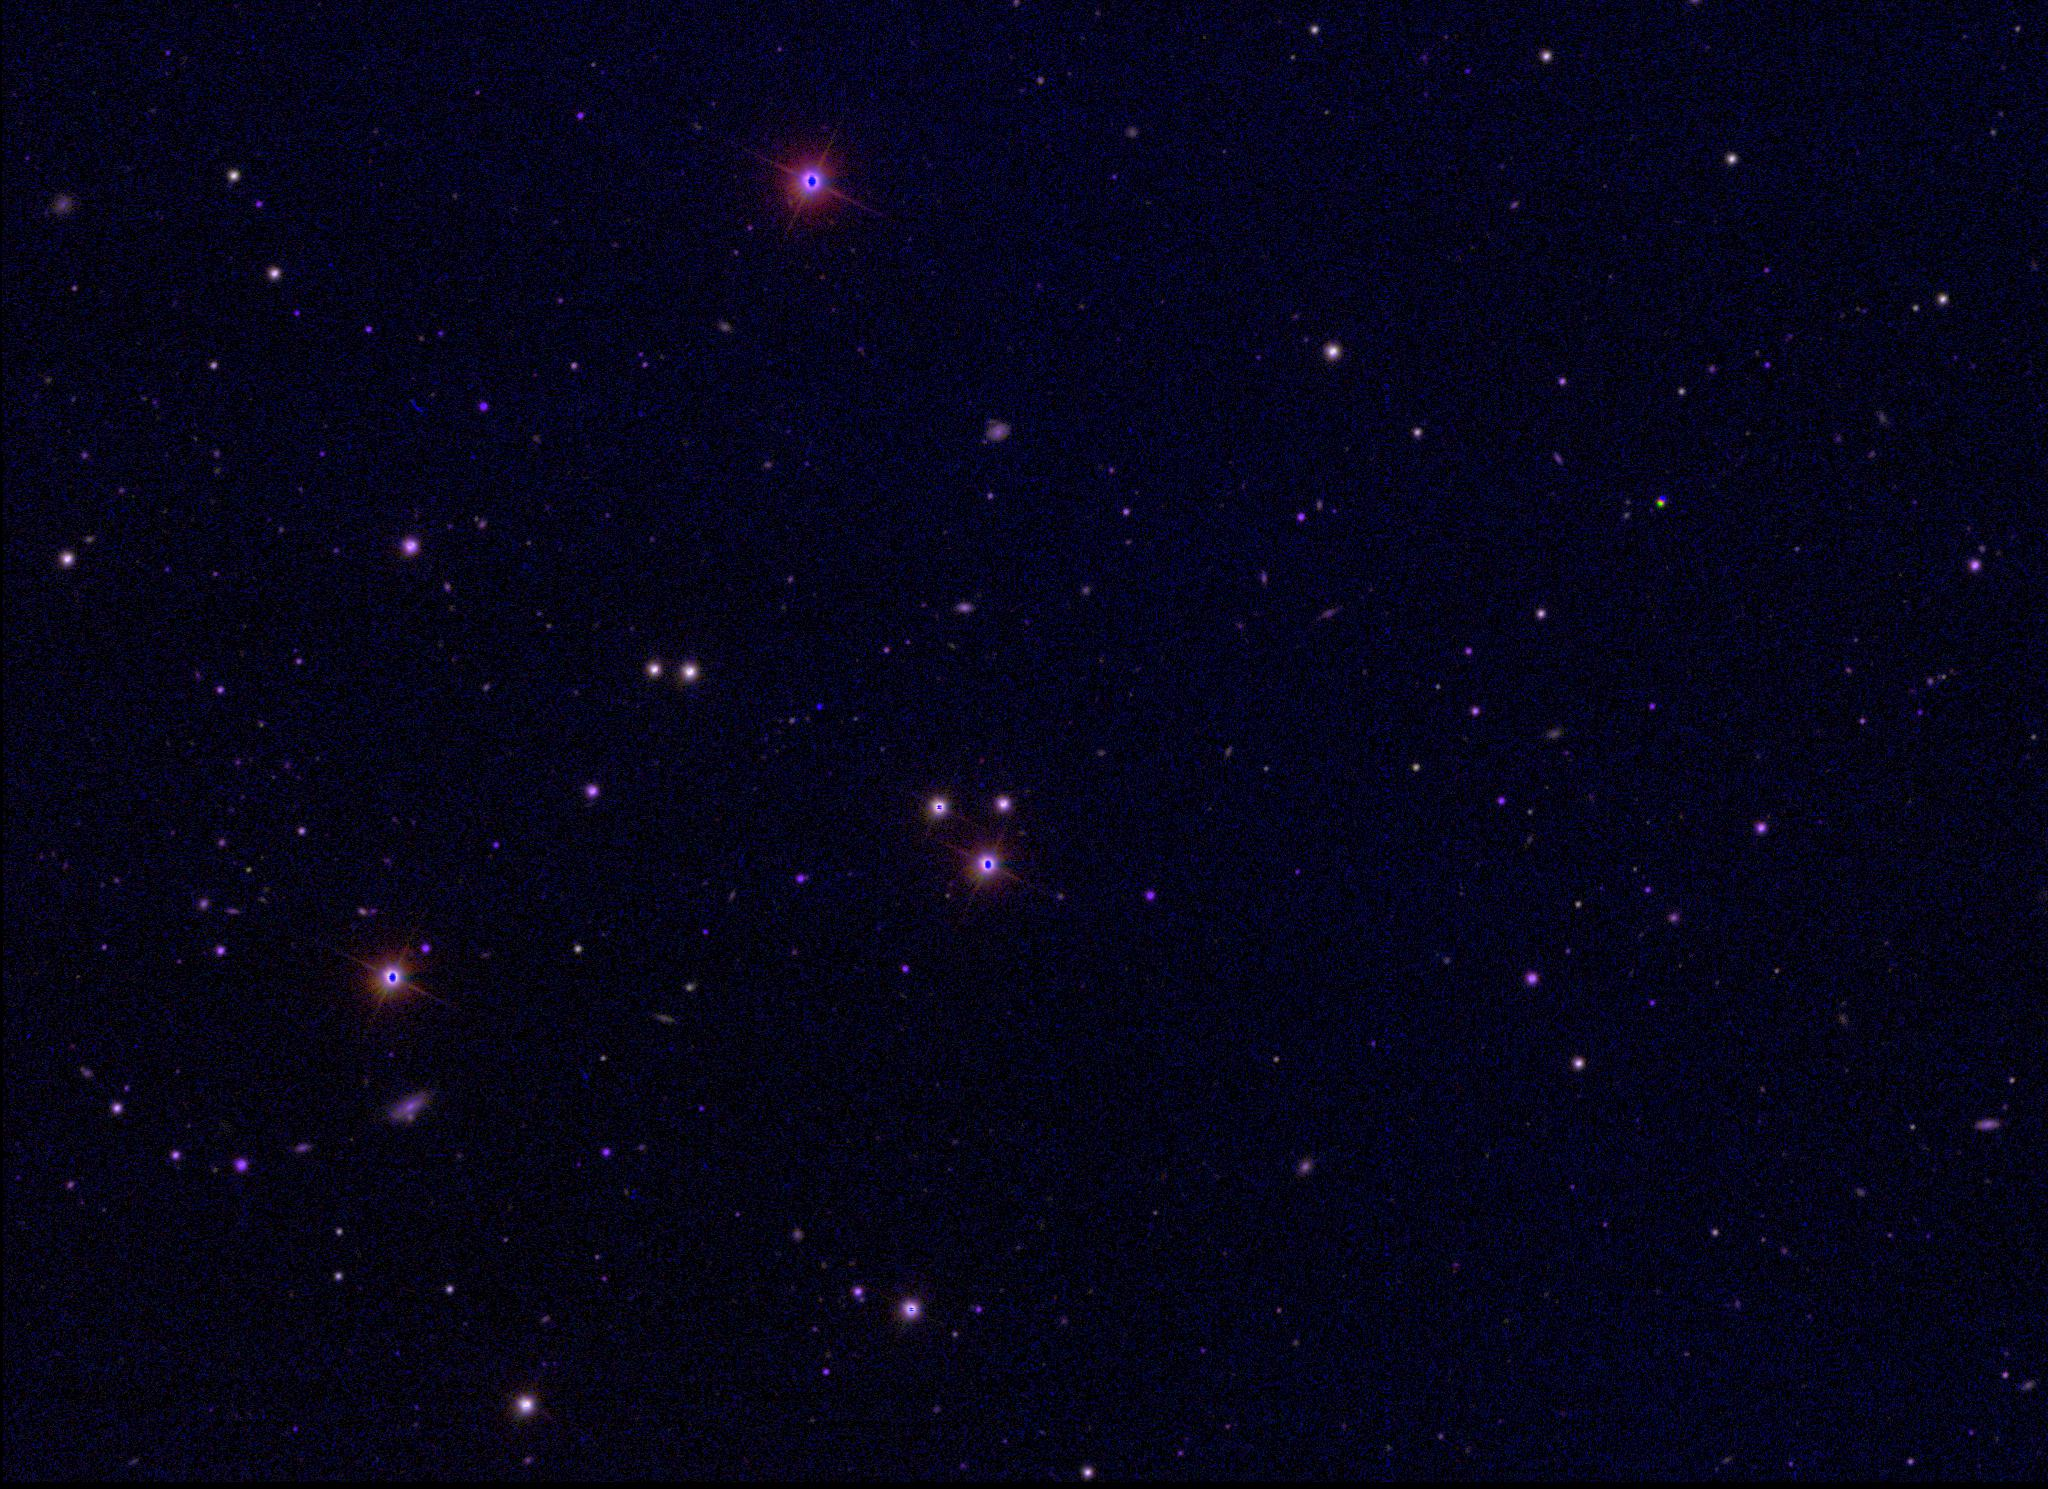L: (813, 700, 825, 714)
